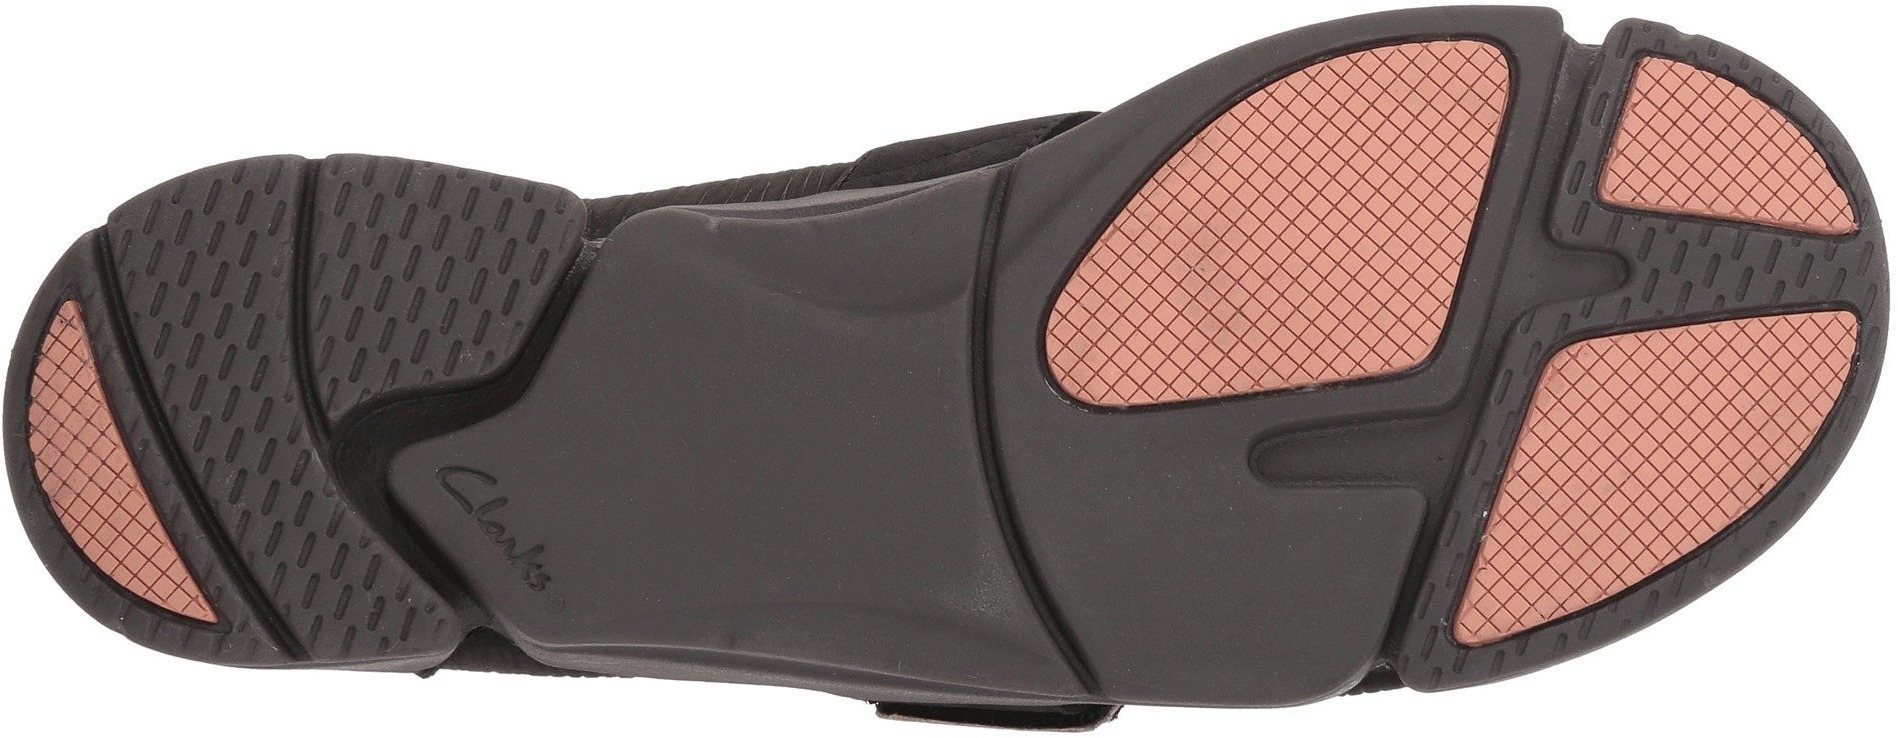line: (177, 438, 384, 632), (178, 226, 384, 419)
other: (574, 340, 803, 600), (1062, 439, 1246, 618), (817, 415, 977, 570)
quad: (177, 438, 384, 632), (178, 226, 384, 419), (1572, 347, 1737, 511), (1317, 75, 1479, 236), (1092, 249, 1244, 385), (1250, 254, 1379, 385), (1201, 132, 1319, 246), (1641, 92, 1754, 212), (1742, 344, 1827, 432), (36, 417, 109, 498)
text: (422, 455, 502, 536), (485, 540, 564, 618)
